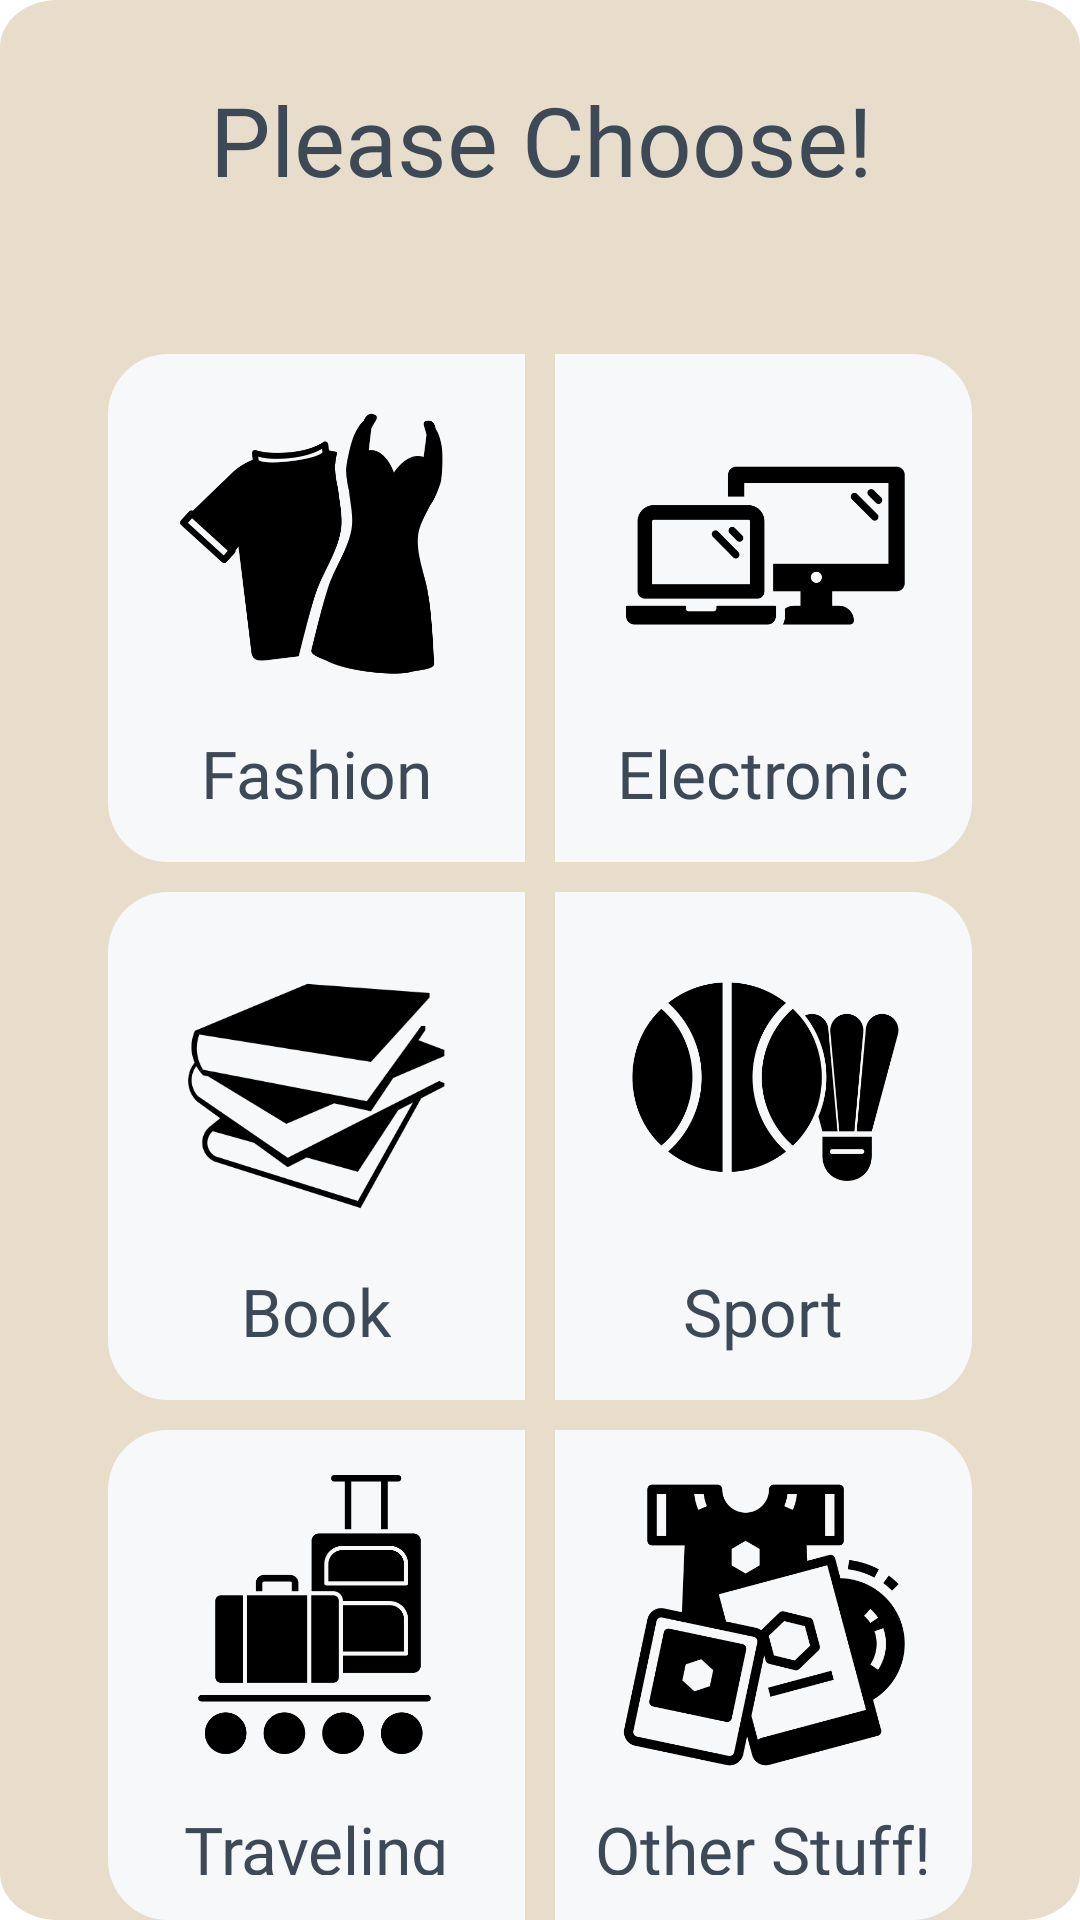

Named icons in this screenshot (1080×1920) and their centers, [x,y]:
clothes: [311,543]
